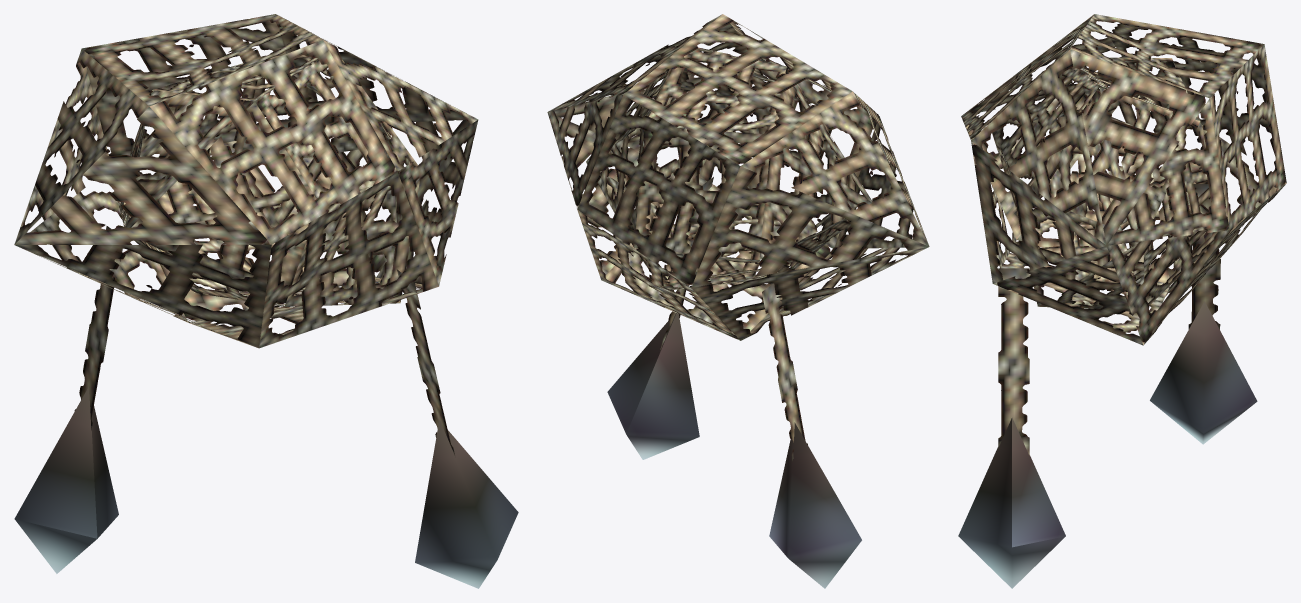
File: wang1.FBX
3 renders of one model, left to right at view 1: azimuth 30°, elevation 25°; view 2: azimuth 150°, elevation 25°; view 3: azimuth 270°, elevation 25°, orthographic. The views are drawn at different scales.
Visible parts, largest first — view 1: ensnare_AirTarget1; view 2: ensnare_AirTarget1; view 3: ensnare_AirTarget1.
Boxes of the visible parts, x1=… form: ensnare_AirTarget1: x1=14, y1=14, x2=518, y2=588; ensnare_AirTarget1: x1=547, y1=14, x2=929, y2=588; ensnare_AirTarget1: x1=958, y1=14, x2=1286, y2=588.
Bounding box in the file's own units: 46.66 × 55.4 × 33.88.
